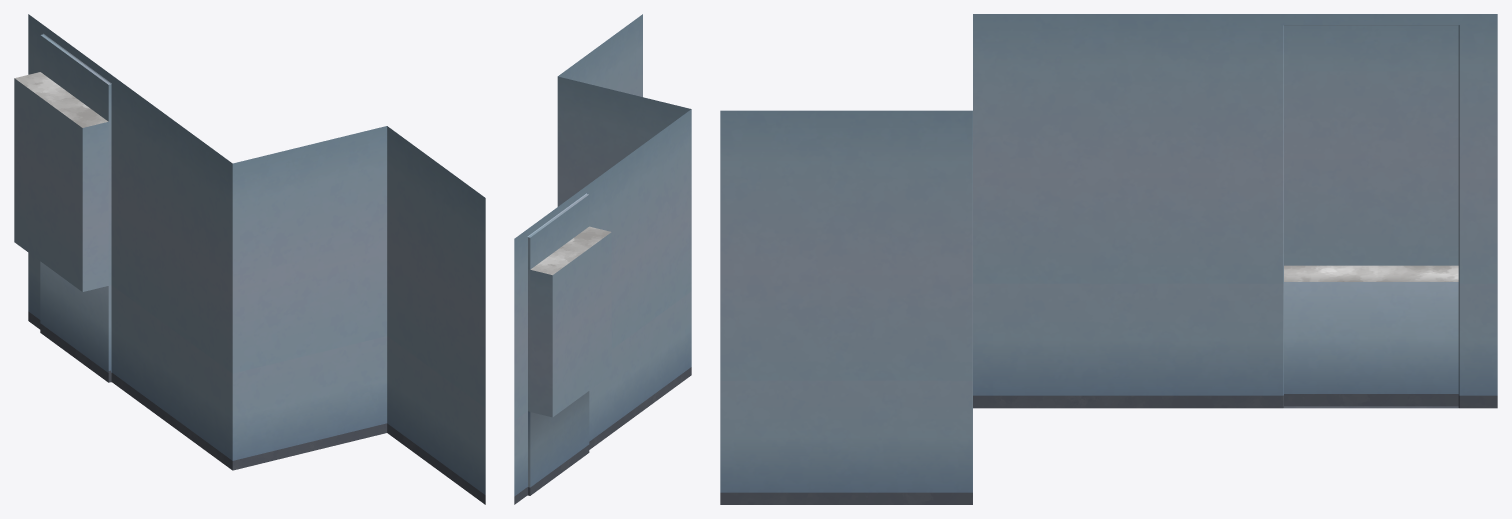
File: ModularPatientFlippedBedWall.fbx
3 renders of one model, left to right at view 1: azimuth 30°, elevation 25°; view 2: azimuth 150°, elevation 25°; view 3: azimuth 270°, elevation 25°, orthographic. The views are drawn at different scales.
Visible parts, largest first — view 1: pCube168; view 2: pCube168; view 3: pCube168.
Boxes of the visible parts, box(x1,y1,x2,y2) form: pCube168: box(14, 14, 485, 504); pCube168: box(514, 14, 691, 504); pCube168: box(720, 14, 1497, 504).
Size of the model in its own units: 188 by 300 by 536.
Materials: 1 (1 with a texture image).
